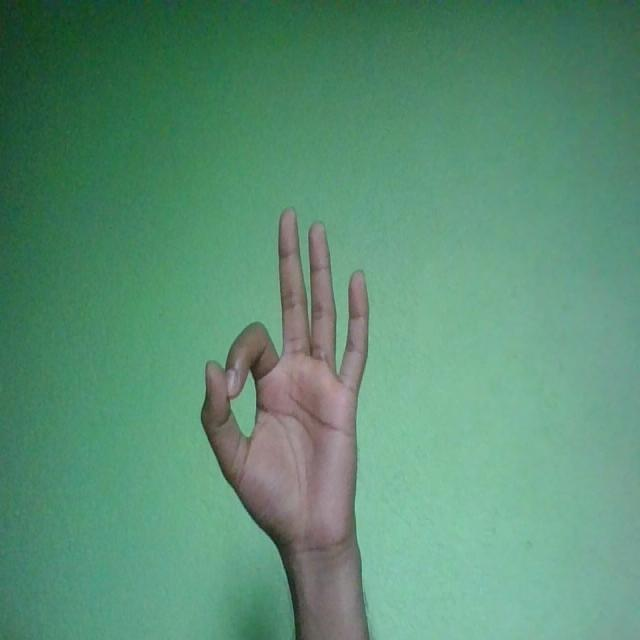Rock On: (200, 207, 370, 558)
